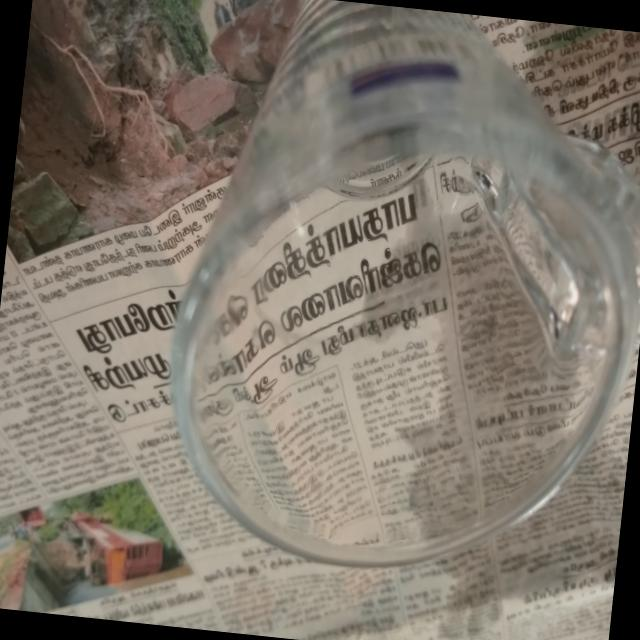glass-VX4N: (151, 0, 640, 600)
